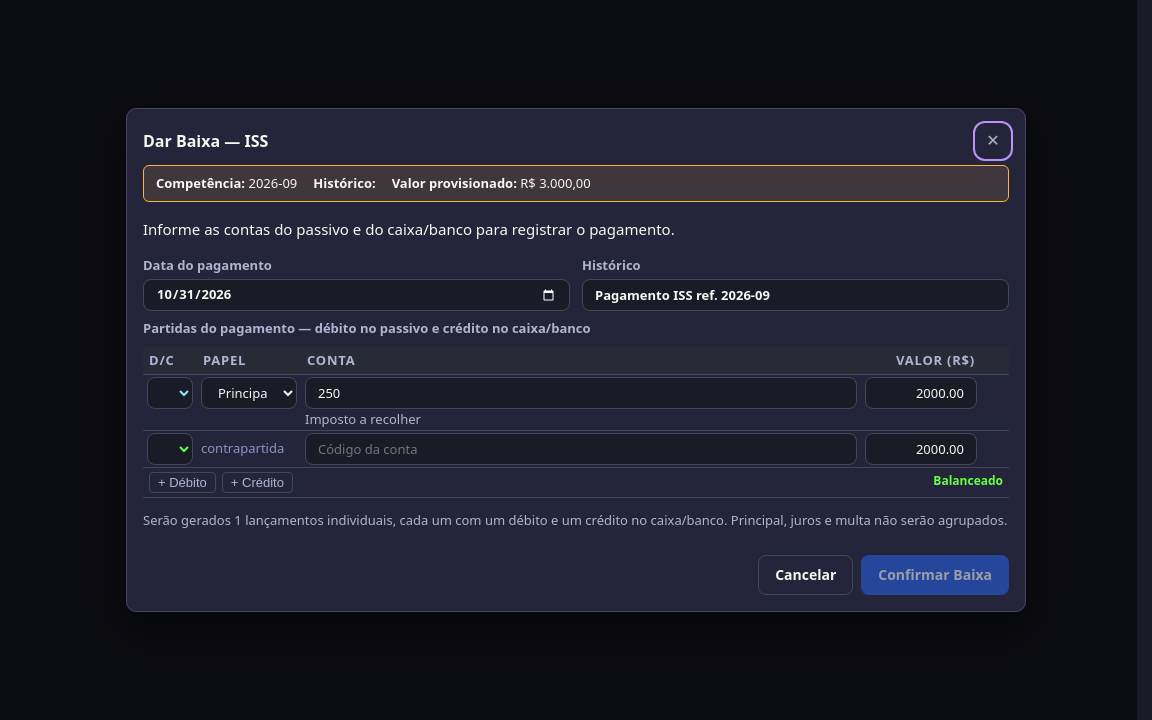
Scenario: ISS com juros adicionados exige papel e anuncia lançamentos individuais
The width and height of the screenshot is (1152, 720).
Expected: the number of number fields showing "2000.00" is 2, [865,377,977,409]; [865,433,977,465]
Click the button "+ Débito".
click(182, 482)  # box [149,472,216,493]
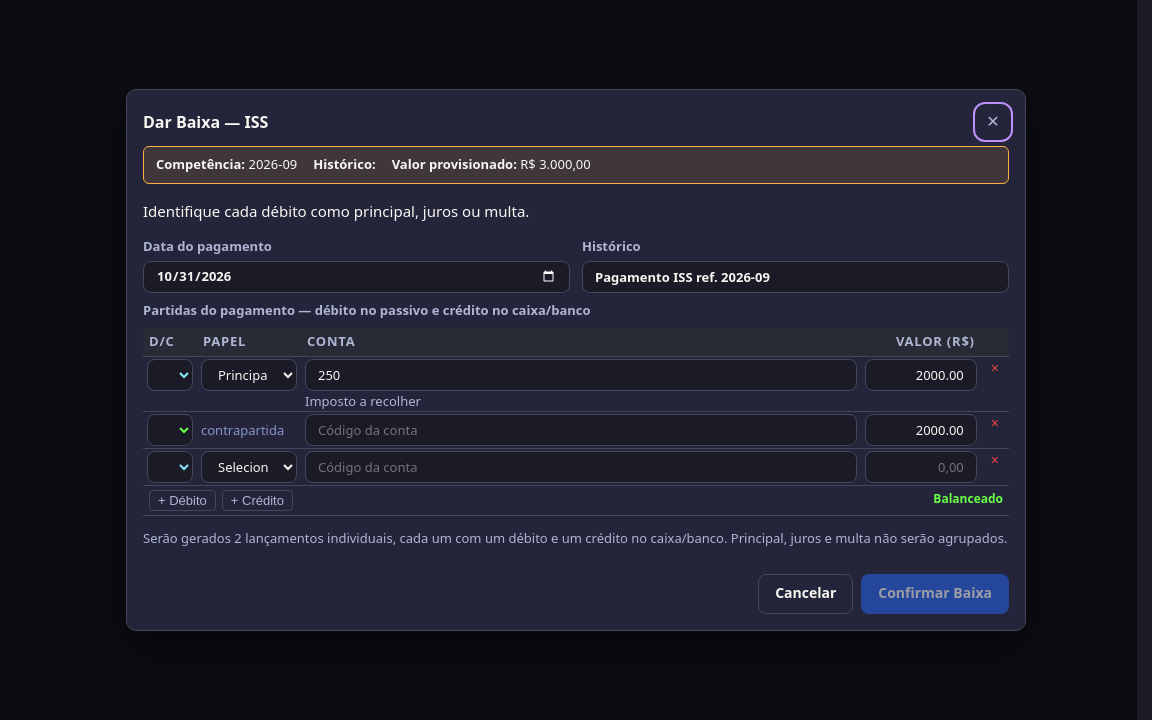
Type "5" into the field with placeholder "Código da conta" next to "contrapartida".
click(581, 430); type("5")  # box [305,414,857,446]
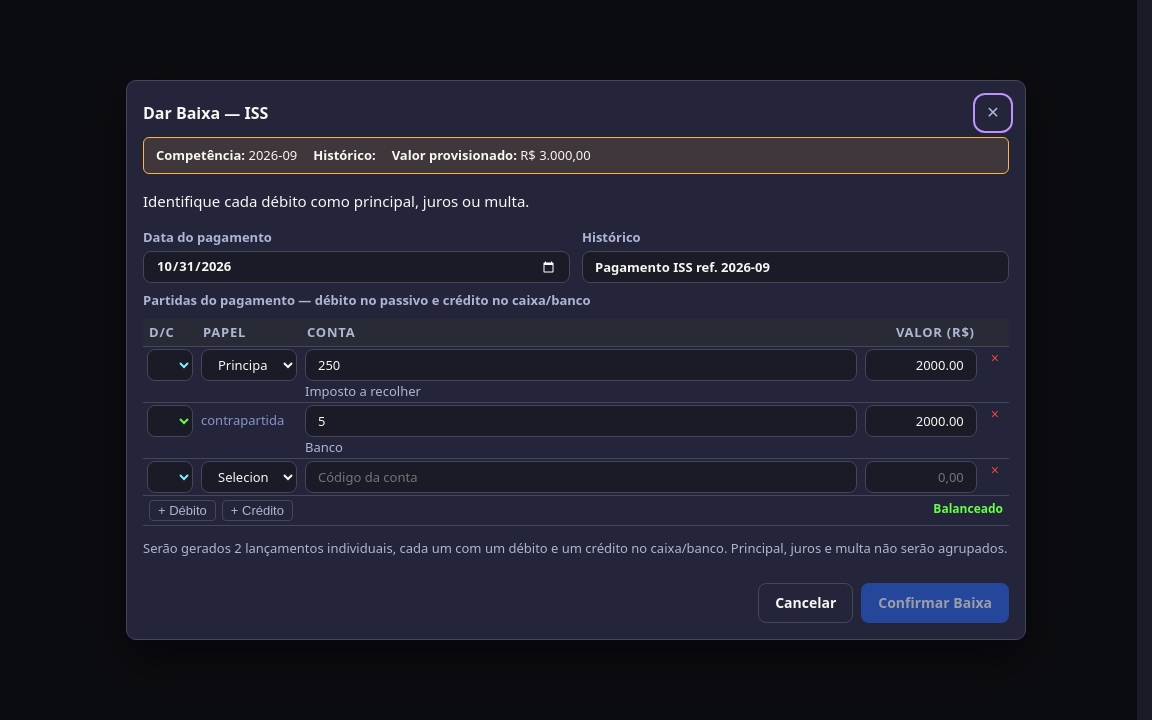
Type "501" into the field with placeholder "Código da conta".
click(581, 477); type("501")  # box [305,461,857,493]
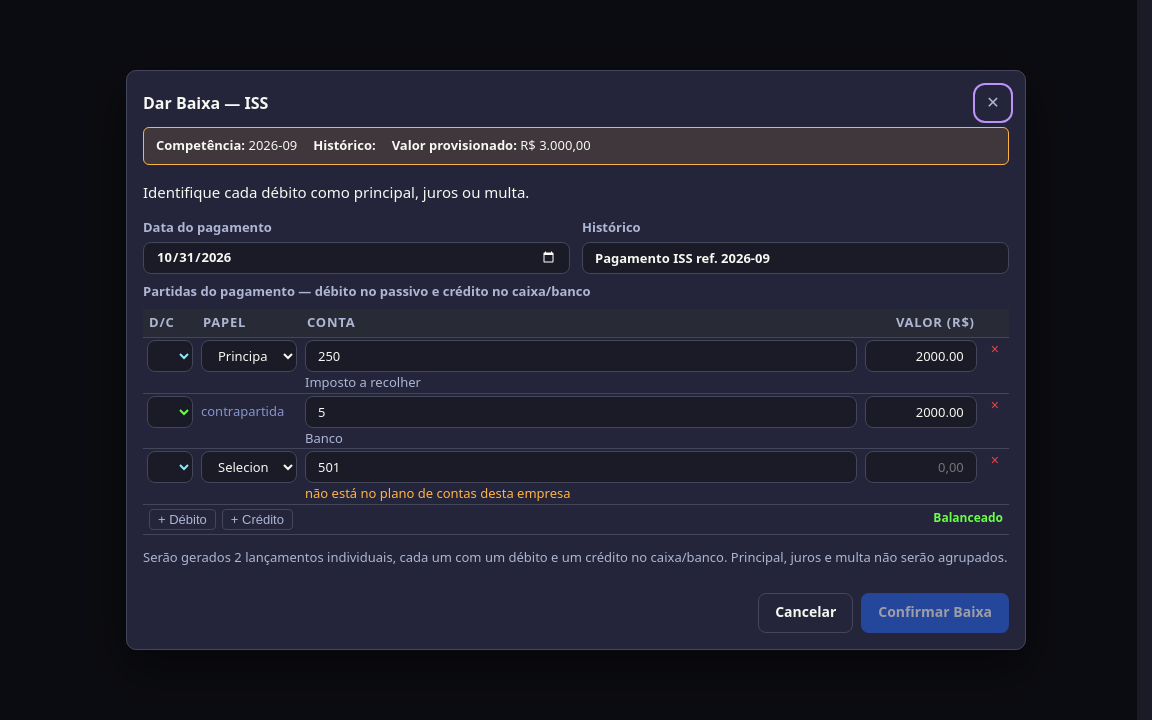
Type "20" into the number field with placeholder "0,00".
click(921, 467); type("20")  # box [865,451,977,483]
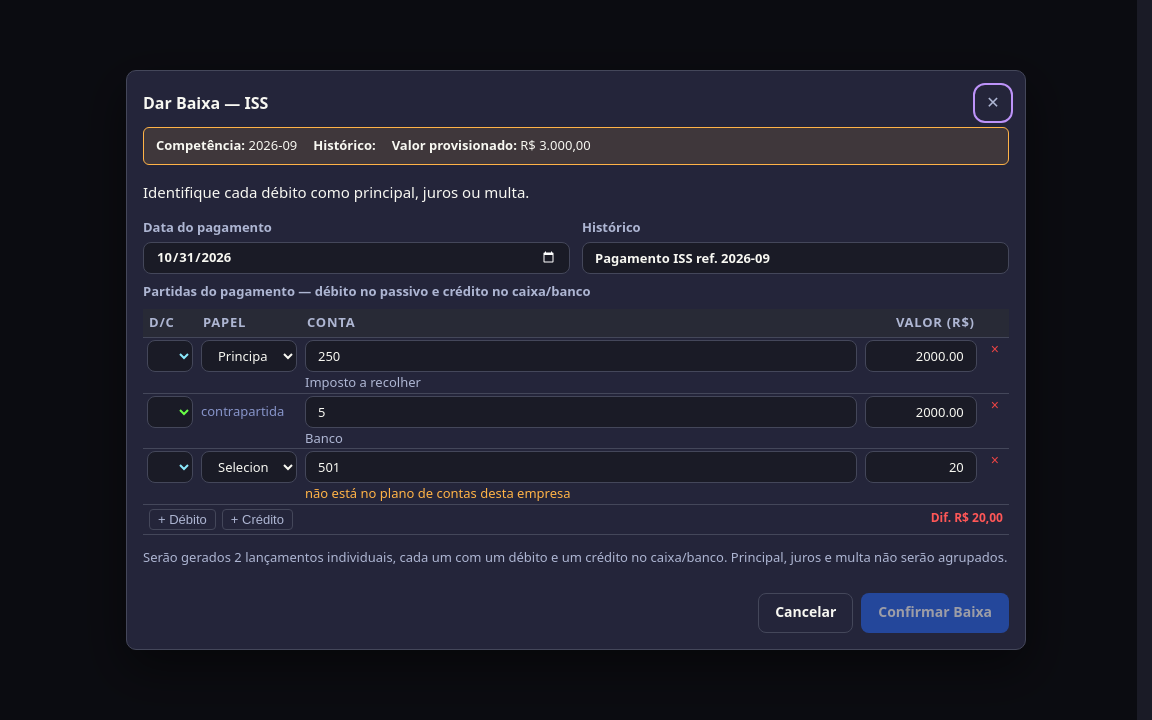
Replace the text in the number field in the row of "contrapartida" with "2020" at (921, 412), box [865,396,977,428]
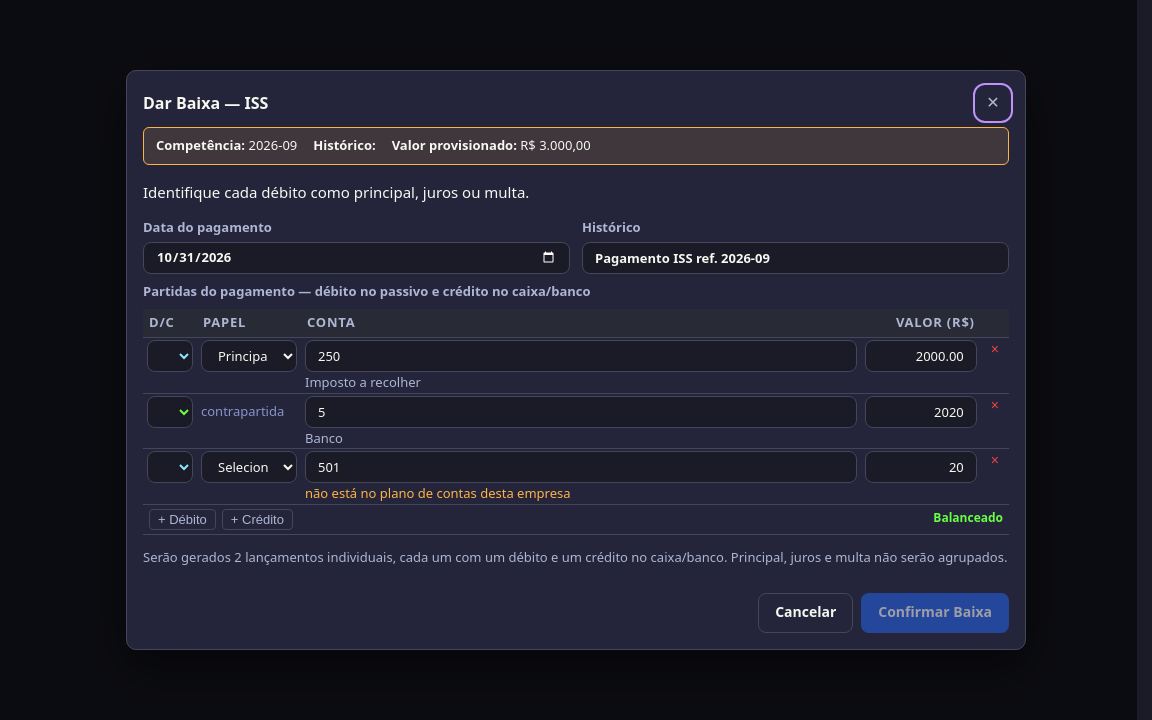
Expected: the button "Confirmar Baixa" is disabled, [861,593,1009,633]
Select "Juros" in the 2nd dropdown titled "Principal amortiza o passivo" at (249, 467), box [201,451,297,483]
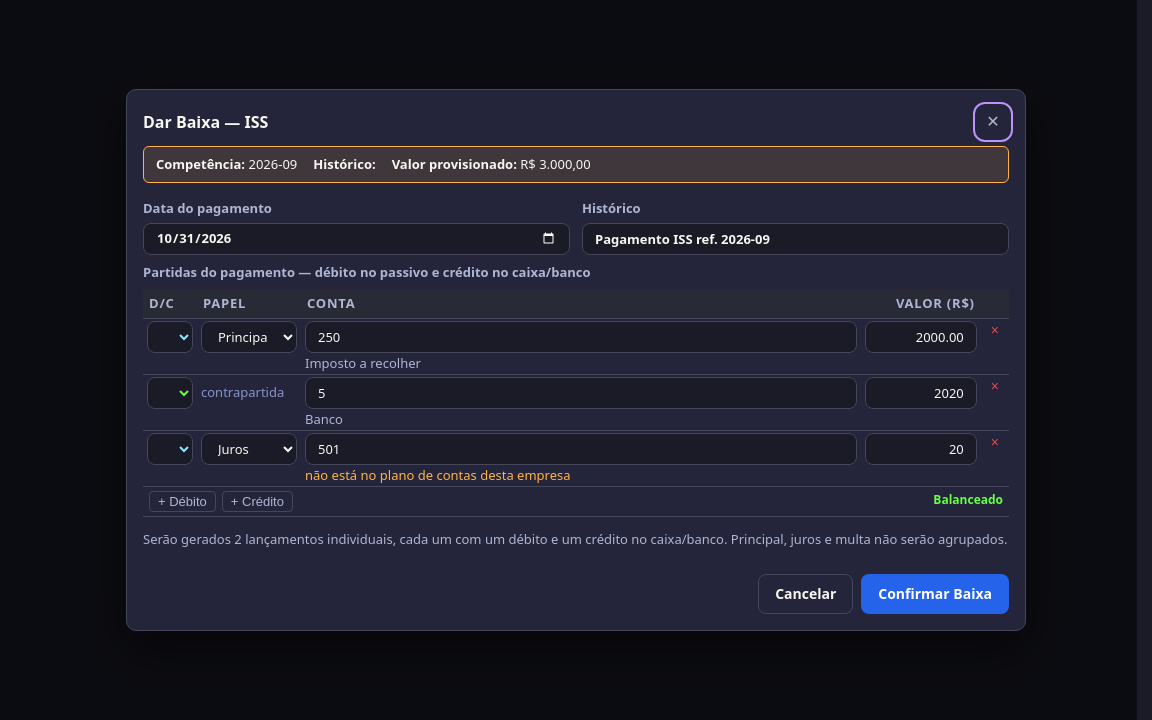
Expected: the text "Serão gerados 2 lançamentos individuais" is shown, [143,530,1009,549]
Expected: the button "Confirmar Baixa" is enabled, [861,574,1009,614]
